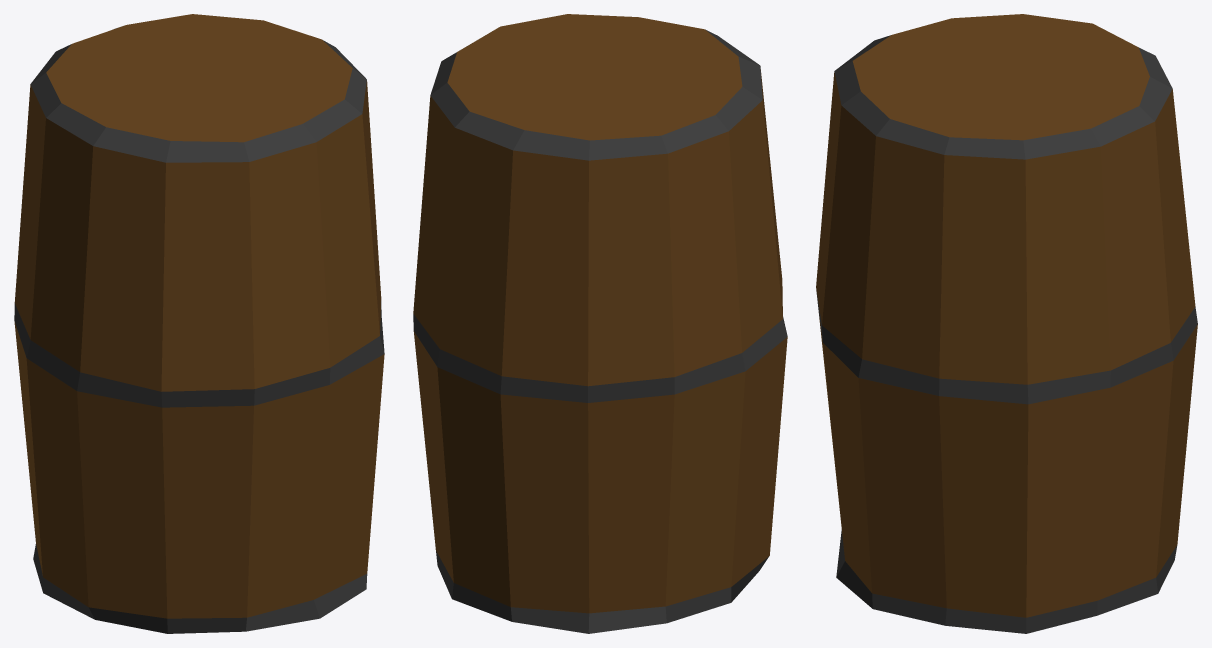
Rendered from Barrel_Closed.fbx.
3 renders of one model, left to right at view 1: azimuth 30°, elevation 25°; view 2: azimuth 150°, elevation 25°; view 3: azimuth 270°, elevation 25°, orthographic.
Parts seen in each view (by area): view 1: Barrel Closed; view 2: Barrel Closed; view 3: Barrel Closed.
Part boxes in pixels (<box>): Barrel Closed: <box>14,14,384,633</box>; Barrel Closed: <box>413,14,787,633</box>; Barrel Closed: <box>816,14,1197,633</box>.
Size of the model in its own units: 50.97 by 72.4 by 51.8.
